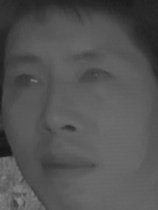eye: (79, 64, 115, 89), (12, 69, 44, 92)
mouth: (35, 145, 97, 180)
